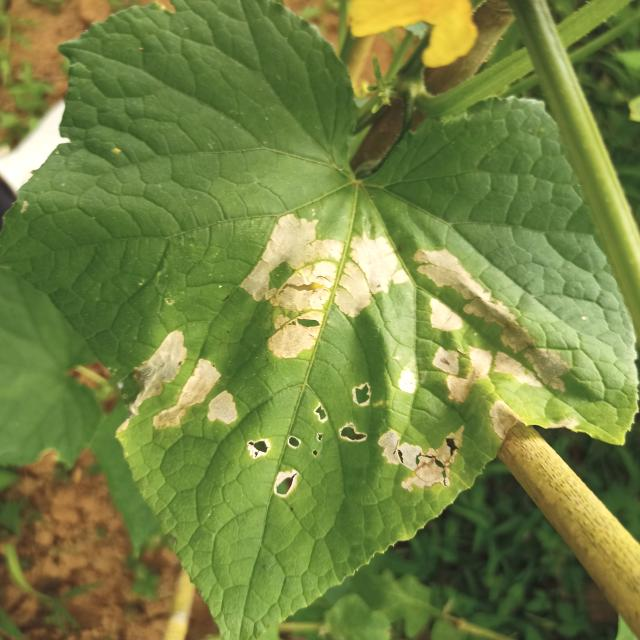disease_cucumber: (114, 214, 567, 498)
